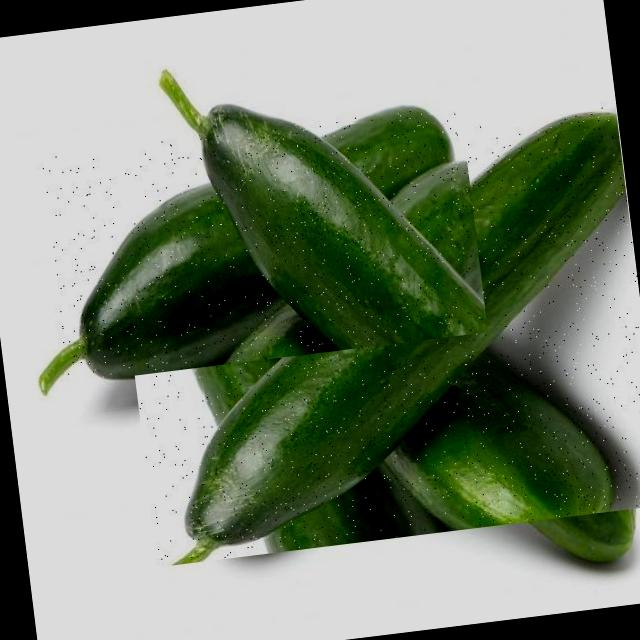Cucumber: (135, 86, 640, 557), (188, 63, 478, 369), (61, 164, 278, 379)
